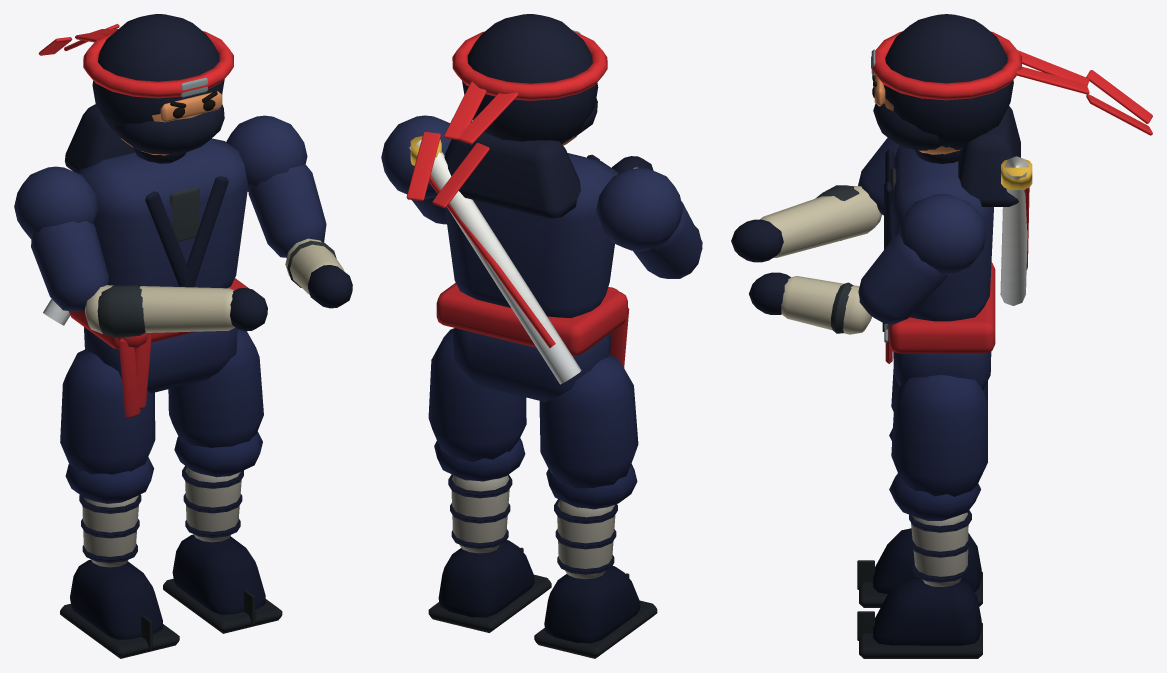
The model's file is ninja.glb.
3 views of the same model, side by side, from view 1: azimuth 30°, elevation 25°; view 2: azimuth 150°, elevation 25°; view 3: azimuth 270°, elevation 25° (orthographic). The views are drawn at different scales.
Visible parts, largest first — view 1: Chest, Neck.002, Knee fold.001, Knee fold, Shoulder.004, Hakama leg, Shoulder.005, Forearm wraps, Pelvis.002, Hakama leg.001, Forearm wraps.001; view 2: Chest, Neck.002, Knee fold.001, Knee fold, Pelvis.002, Hakama leg, Shoulder.004, Hakama leg.001, Shoulder.005, Forearm wraps; view 3: Neck.002, Chest, Knee fold.001, Hakama leg.001, Shoulder.005, Pelvis.002, Forearm wraps, Forearm wraps.001, Knee fold, Shoulder.004.
Boxes of the visible parts, <box> form: Chest: <box>43,104,248,325</box>; Neck.002: <box>38,14,233,163</box>; Knee fold.001: <box>163,431,282,633</box>; Knee fold: <box>60,457,179,658</box>; Shoulder.004: <box>14,166,108,311</box>; Hakama leg: <box>60,349,155,474</box>; Shoulder.005: <box>226,115,326,257</box>; Forearm wraps: <box>85,285,267,337</box>; Pelvis.002: <box>69,278,248,418</box>; Hakama leg.001: <box>168,329,263,447</box>; Forearm wraps.001: <box>285,238,352,308</box>; Chest: <box>409,121,618,384</box>; Neck.002: <box>406,14,607,208</box>; Knee fold.001: <box>428,438,551,632</box>; Knee fold: <box>534,463,657,658</box>; Pelvis.002: <box>436,282,629,402</box>; Hakama leg: <box>539,354,638,488</box>; Shoulder.004: <box>596,168,702,278</box>; Hakama leg.001: <box>428,328,526,461</box>; Shoulder.005: <box>381,115,451,224</box>; Forearm wraps: <box>611,156,702,252</box>; Neck.002: <box>871,14,1152,163</box>; Chest: <box>884,106,1032,321</box>; Knee fold.001: <box>857,473,982,658</box>; Hakama leg.001: <box>891,375,987,496</box>; Shoulder.005: <box>858,193,986,325</box>; Pelvis.002: <box>882,262,995,390</box>; Forearm wraps: <box>731,185,881,262</box>; Forearm wraps.001: <box>749,272,871,334</box>; Knee fold: <box>857,428,982,607</box>; Shoulder.004: <box>858,137,899,215</box>.
Bounding box in the file's own units: 0.9312 × 1.87 × 1.19.
12 materials, 10 textured.
